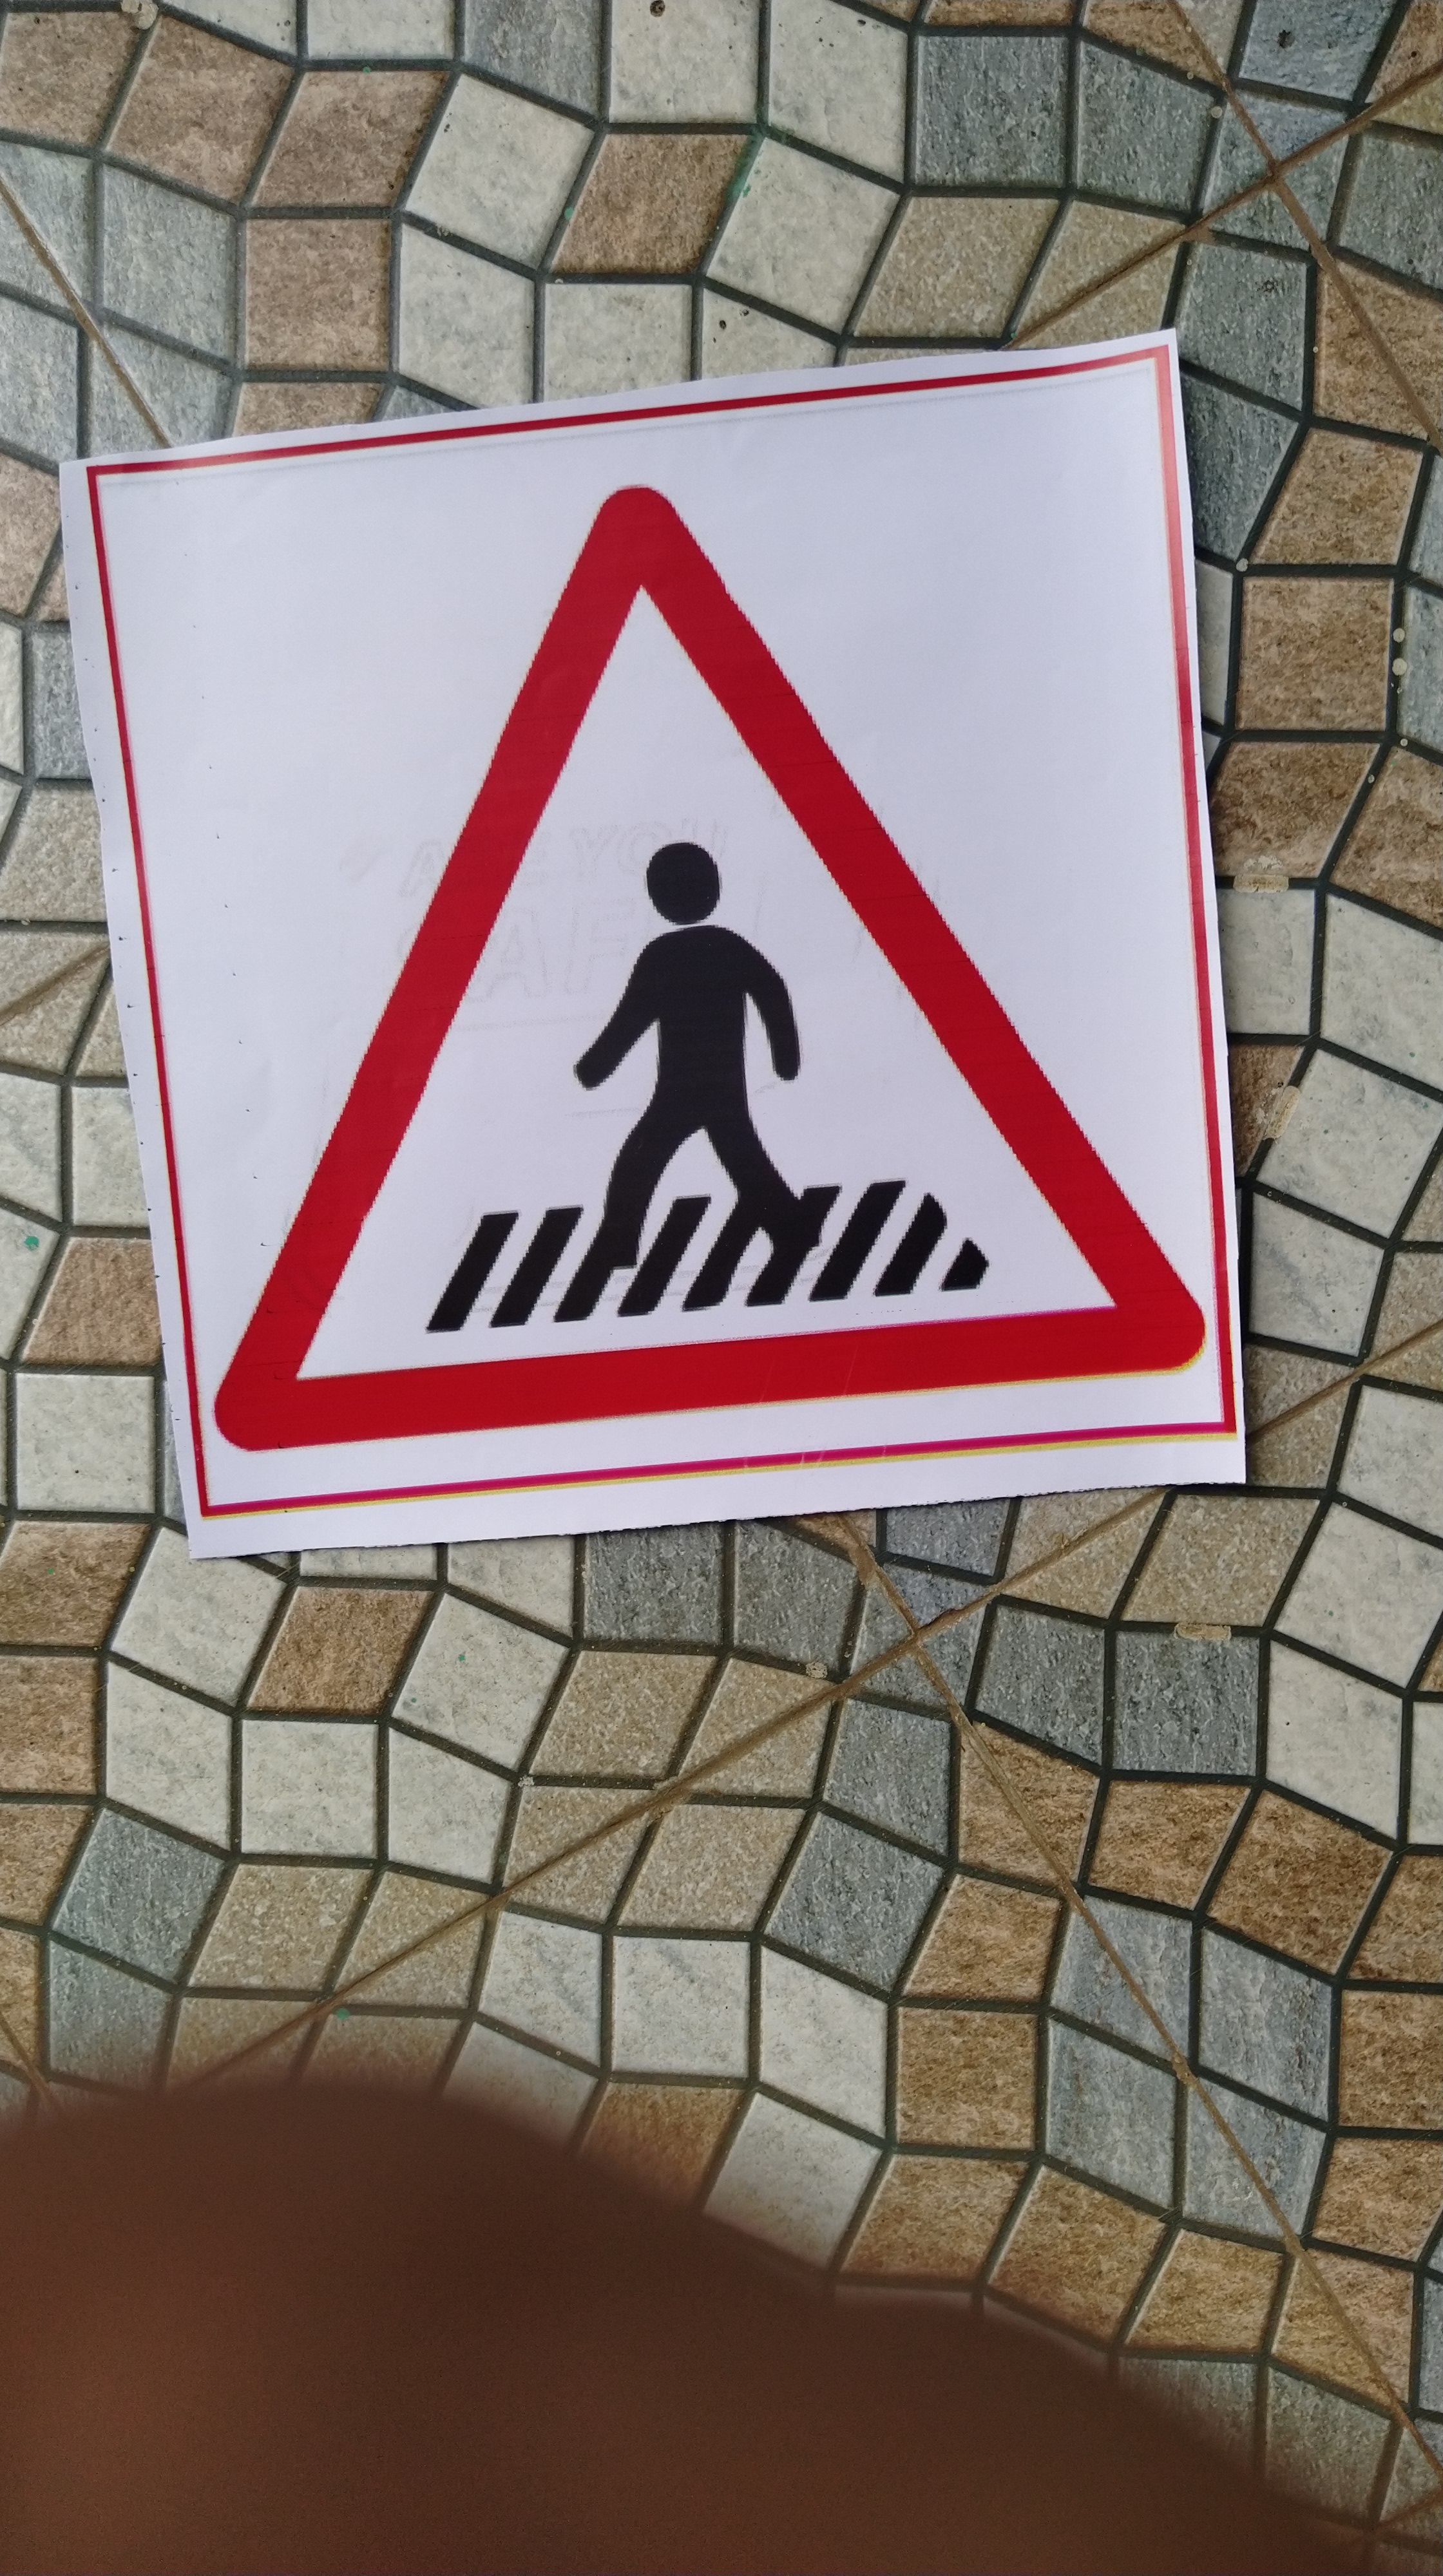pedestrain crossing: (106, 502, 1248, 1525)
